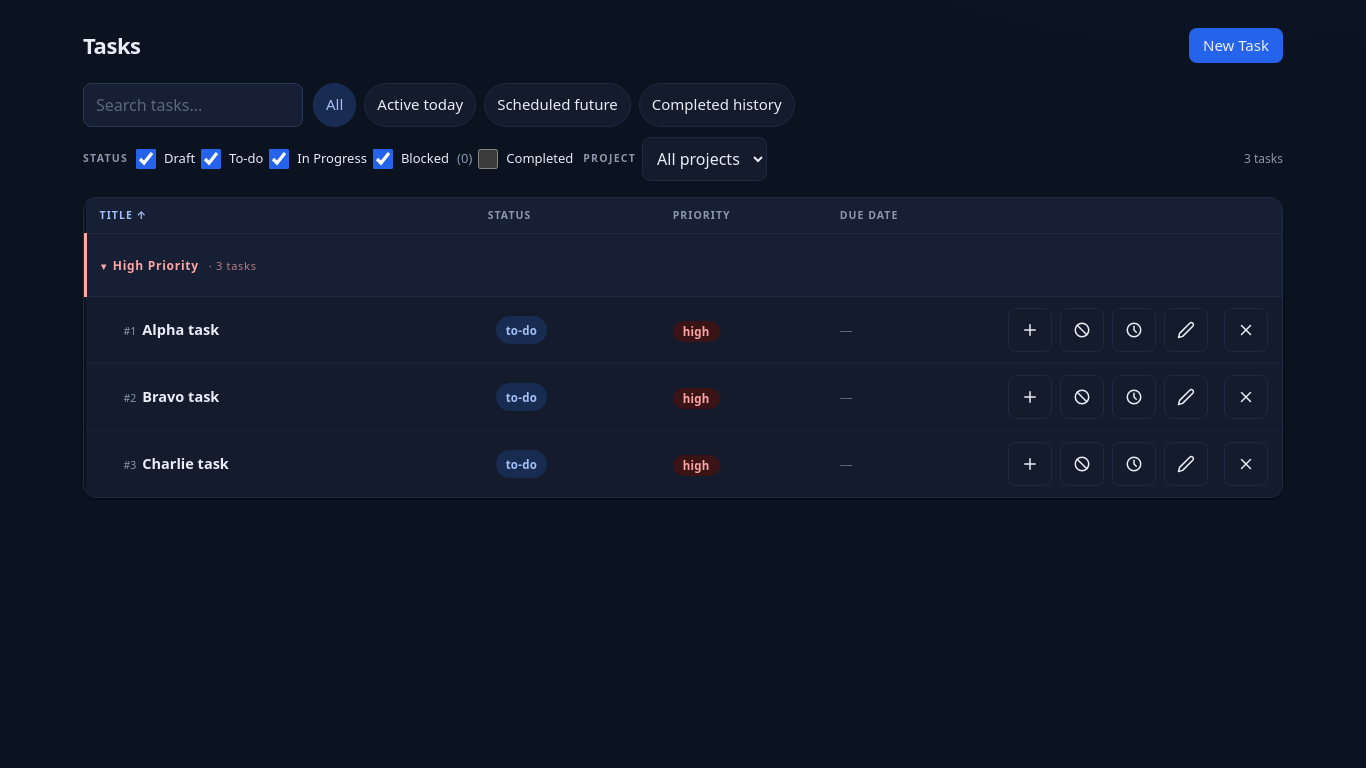
Test: TasksPage undoable delete (#321) › click › removes the row at once with no confirm and shows the Undo toast (AC4)
Expected: the heading "Tasks" is shown, [83,29,141,62]
Click the button named "Delete task: Bravo task": (1246, 397) [1224,375,1268,419]
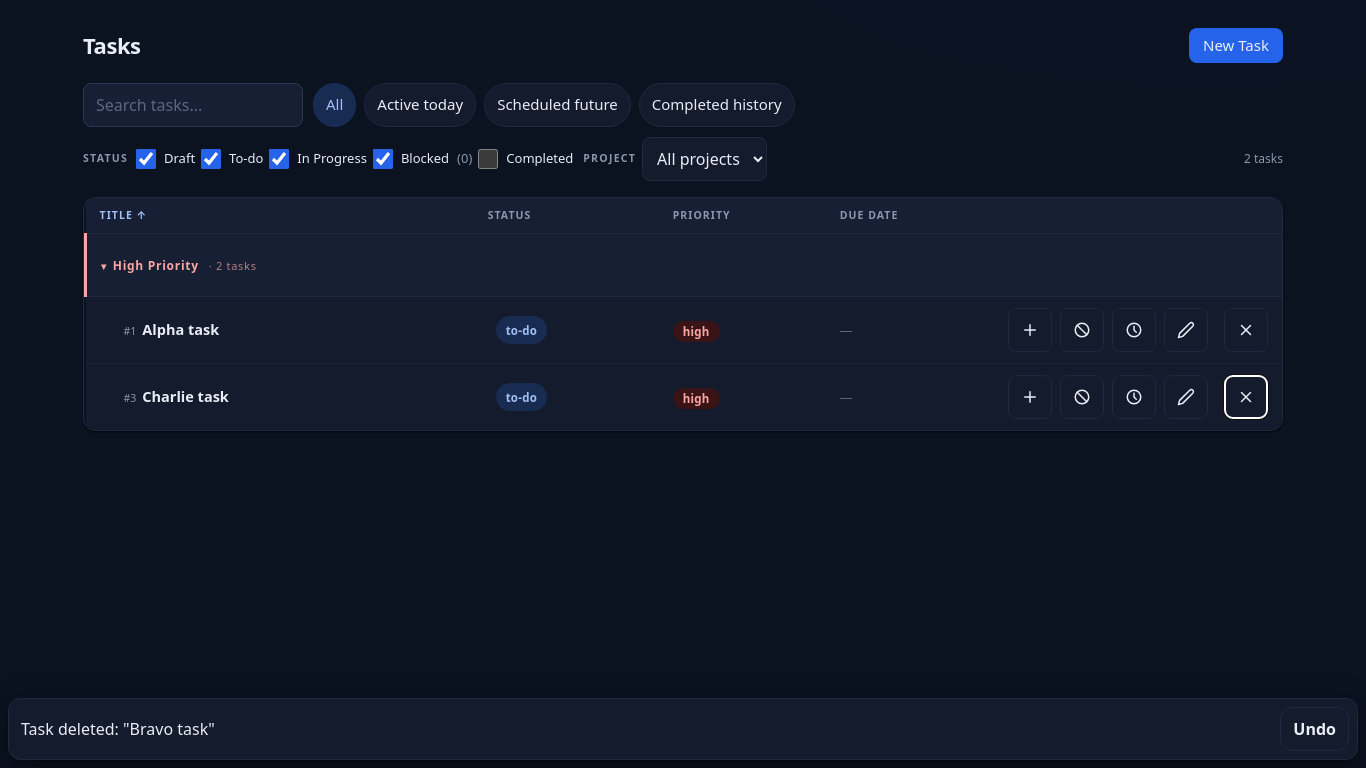
Now the message shows "Task deleted: \"Bravo task\"", box [21,718,215,740]
Now the button "Undo" is shown, box [1280,707,1349,751]
